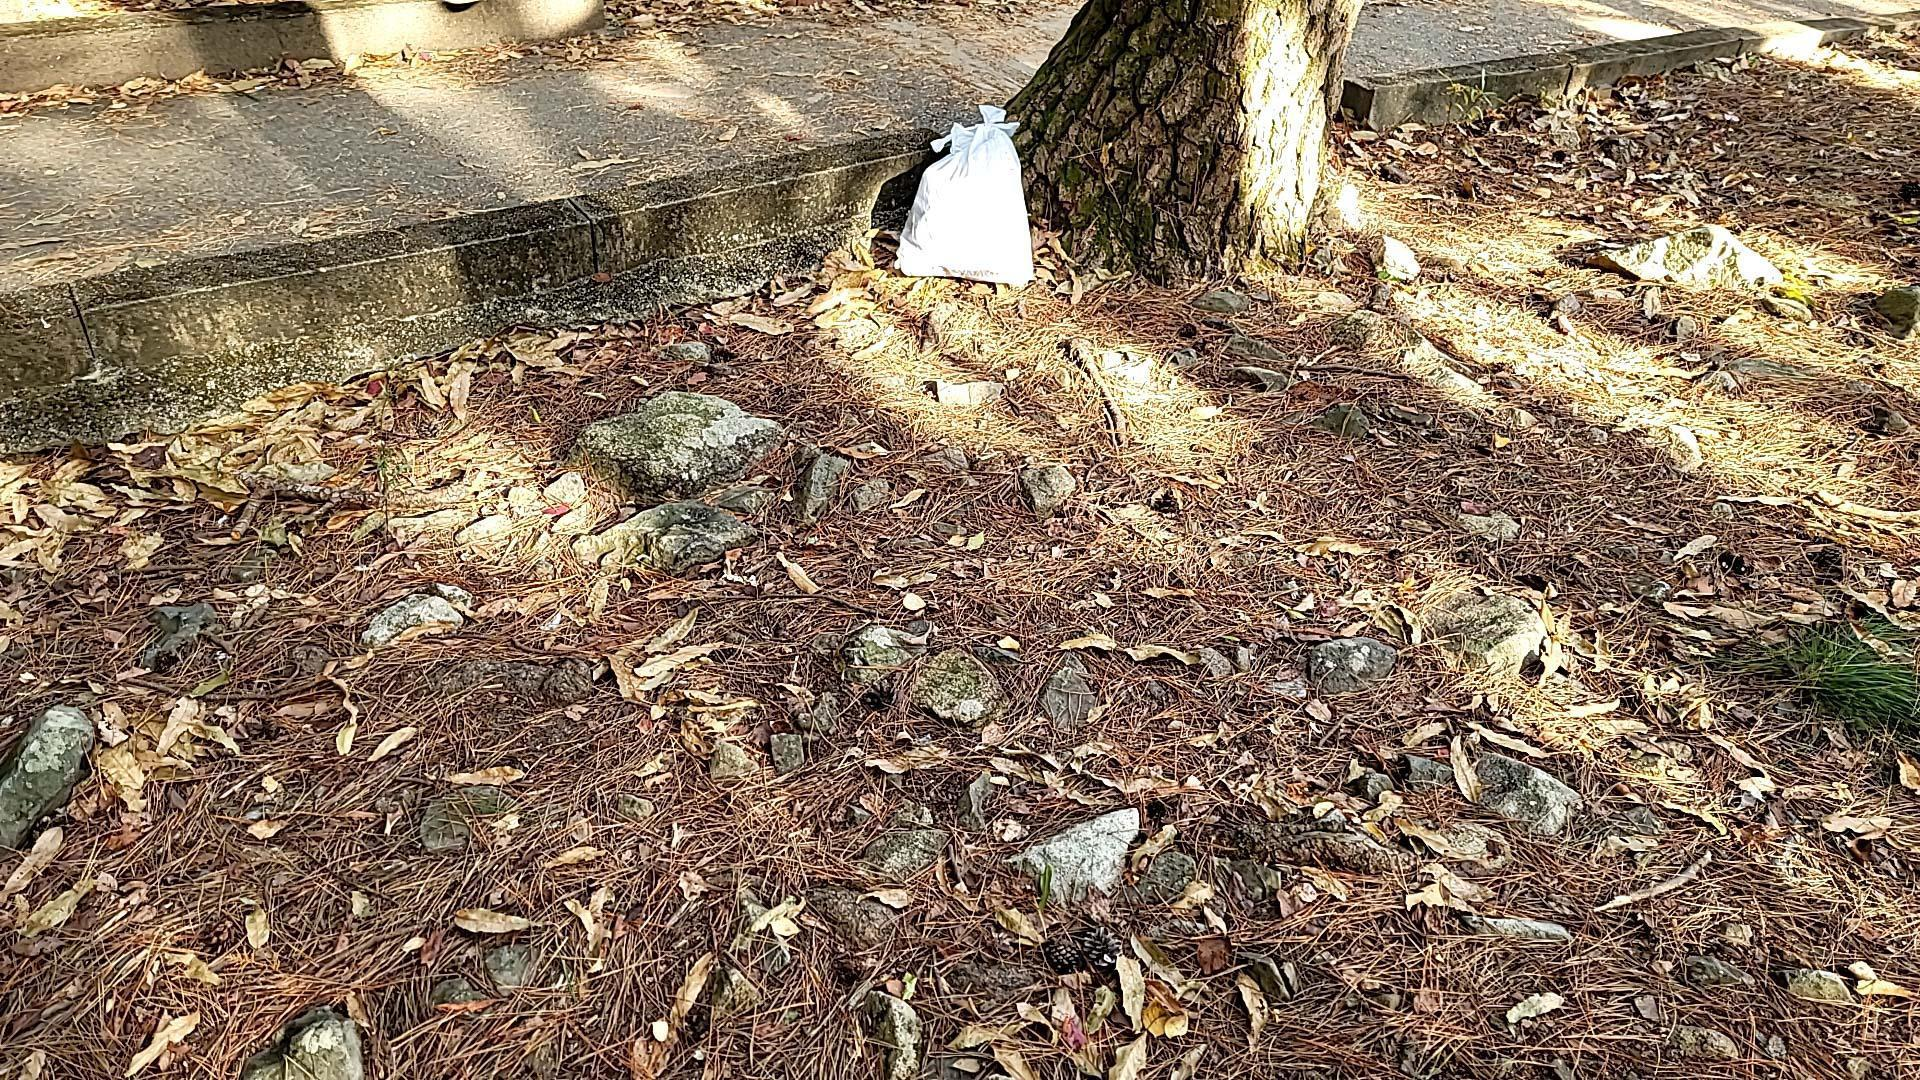white_bag: (881, 88, 1044, 299)
